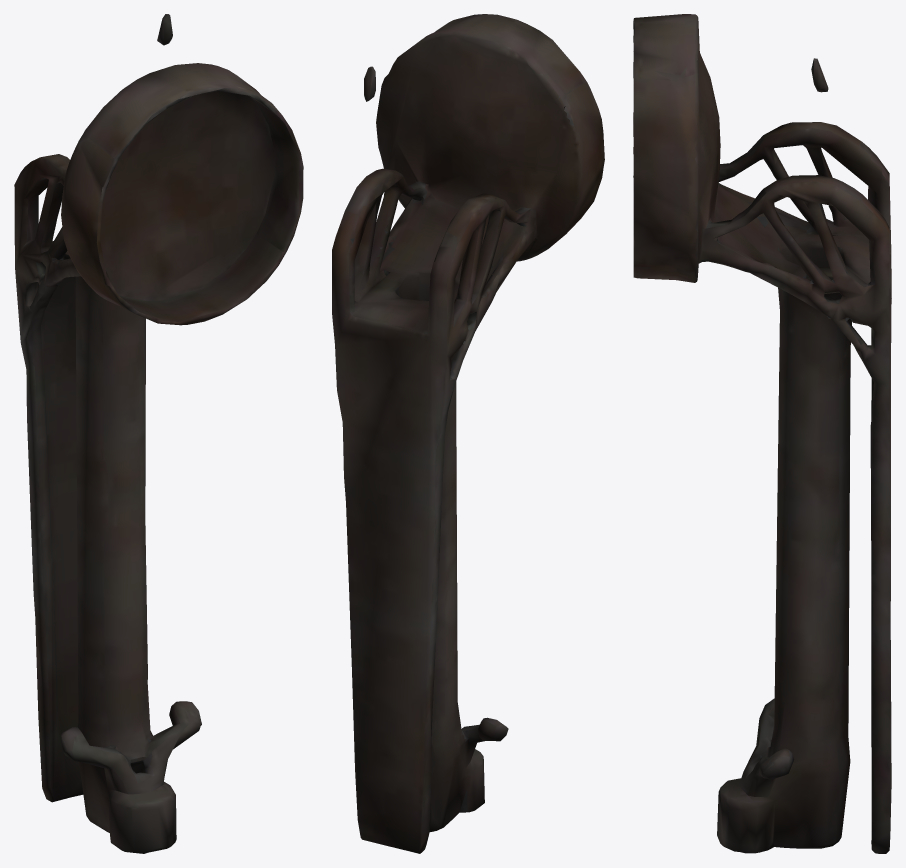
File: worn-iron-wall-torch-v001.glb
The picture shows the model from 3 angles, left to right: view 1: azimuth 30°, elevation 25°; view 2: azimuth 150°, elevation 25°; view 3: azimuth 270°, elevation 25°; orthographic projection. The views are drawn at different scales.
Parts seen in each view (by area): view 1: worn-iron-wall-torch; view 2: worn-iron-wall-torch; view 3: worn-iron-wall-torch.
Boxes of the visible parts, left/top/right/bottom form: worn-iron-wall-torch: left=14, top=14, right=303, bottom=853; worn-iron-wall-torch: left=332, top=14, right=604, bottom=853; worn-iron-wall-torch: left=633, top=14, right=891, bottom=853.
Size of the model in its own units: 0.1985 by 0.6896 by 0.1984.
Materials: 1 (1 with a texture image).
